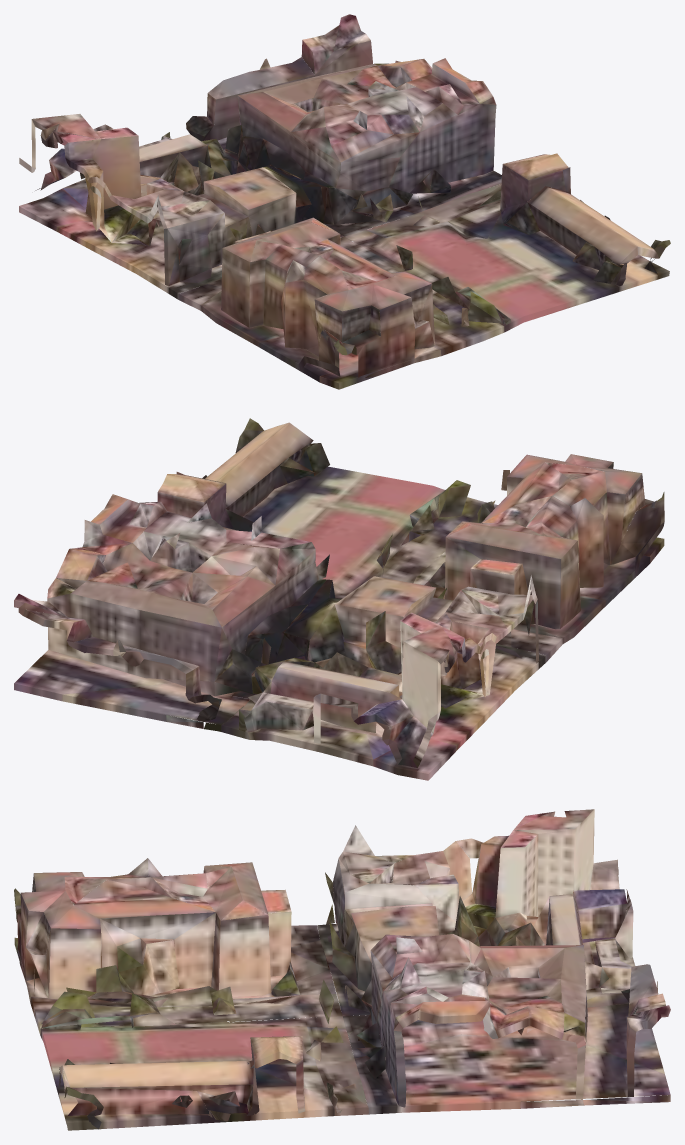
The picture shows the model from 3 angles, top to bottom: view 1: azimuth 30°, elevation 25°; view 2: azimuth 150°, elevation 25°; view 3: azimuth 270°, elevation 25°; orthographic projection. The views are drawn at different scales.
Parts seen in each view (by area): view 1: Mesh_0; view 2: Mesh_0; view 3: Mesh_0.
Boxes of the visible parts, x1,y1,x2,y2 form: Mesh_0: (19,14,670,389); Mesh_0: (14,418,664,780); Mesh_0: (14,809,670,1130).
Size of the model in its own units: 135 by 35.21 by 165.
2 materials, 2 textured.
